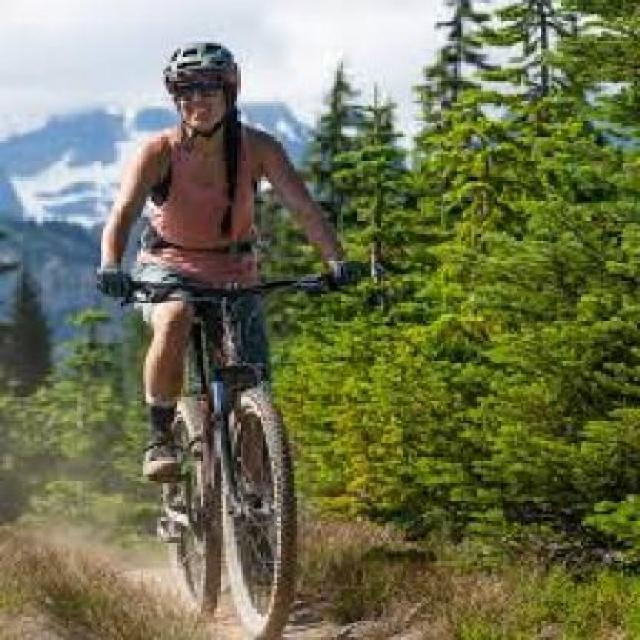bicycle: (81, 262, 372, 640)
